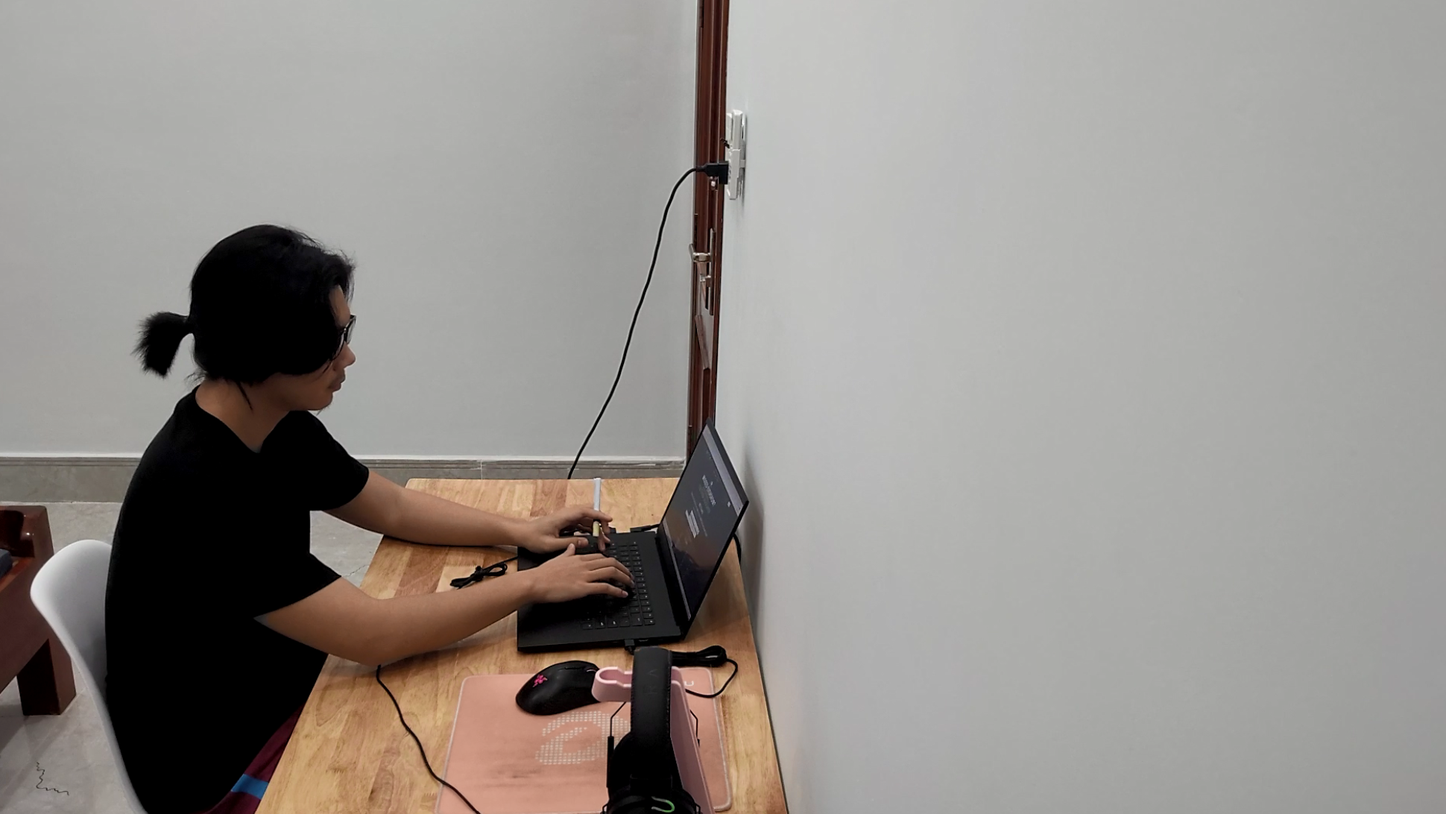cigarette: (580, 465, 613, 537)
person: (98, 199, 432, 814)
